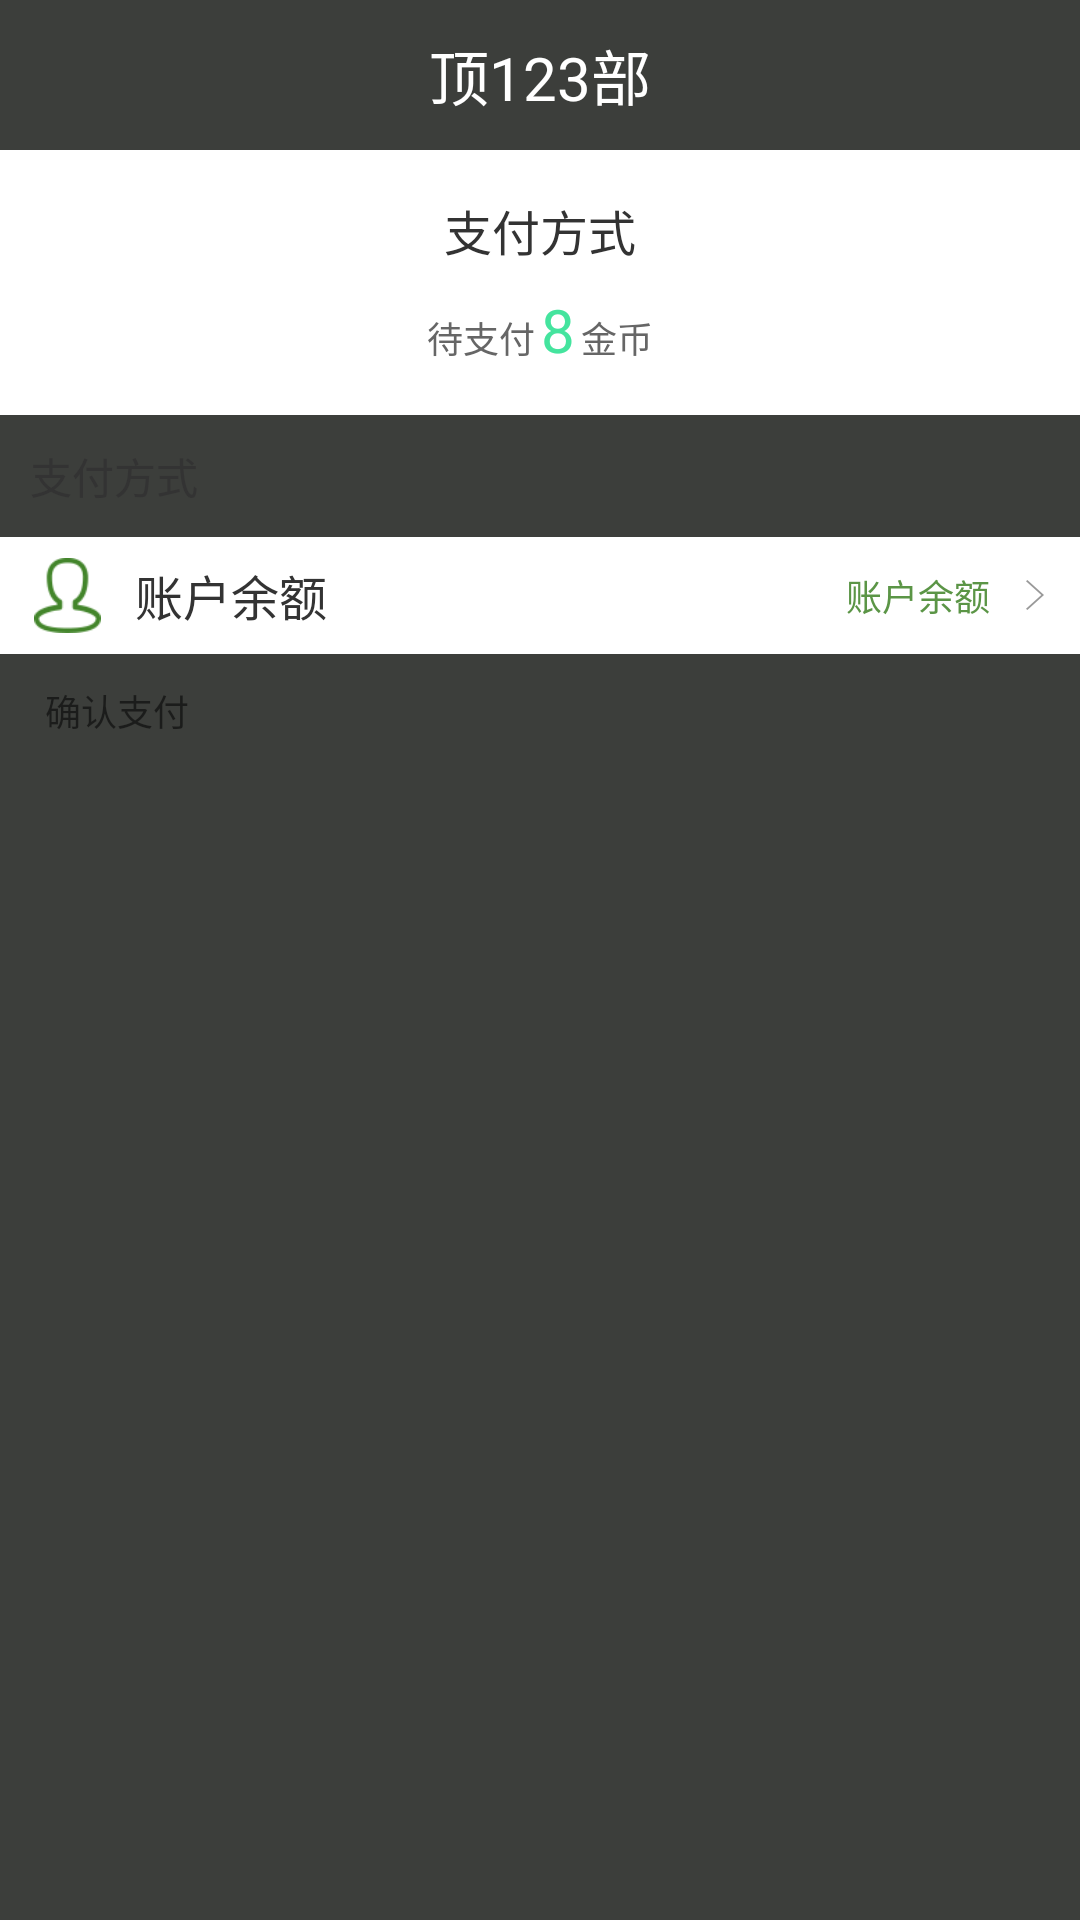

Where to tap for icons on this 1080x1920 app screen, as (x,y):
right arrow: (1035,595)
touxiang: (67,595)
